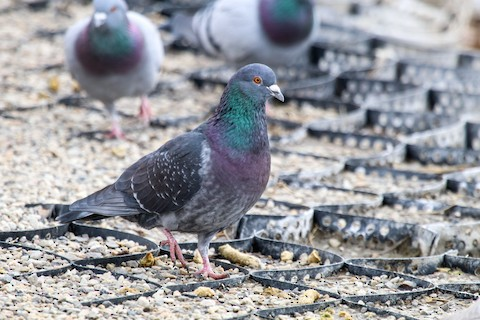pigeon: (52, 57, 293, 285)
